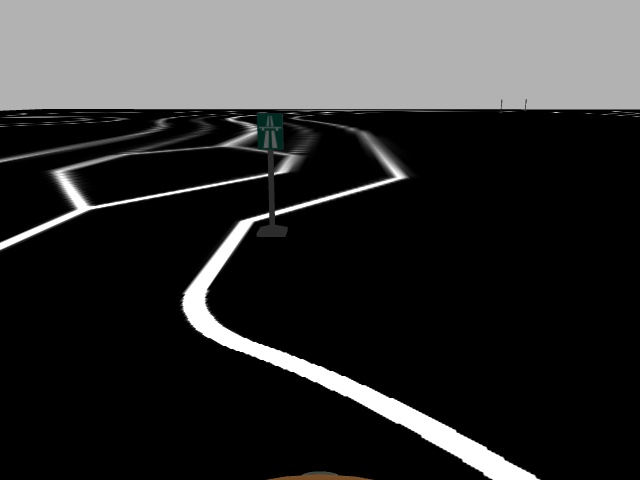enter_highway: (254, 111, 287, 149)
